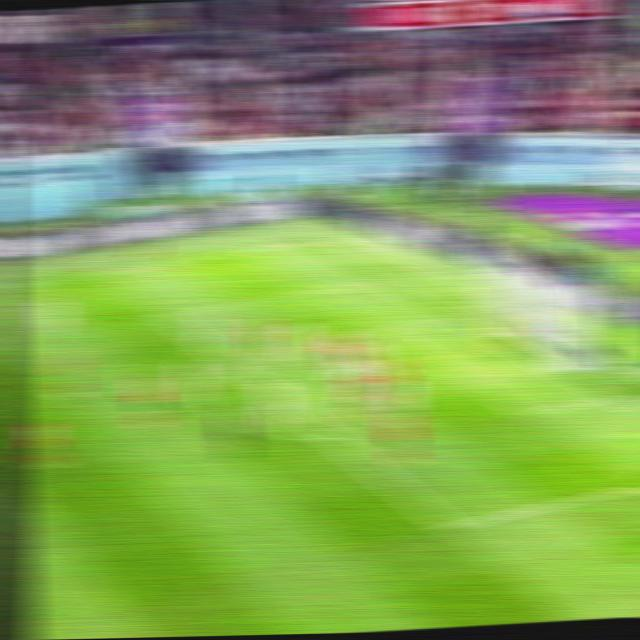bigarea_bottom_inner: (434, 511, 469, 543)
bigarea_top_inner: (154, 306, 182, 323)
bigarea_top_outter: (365, 272, 391, 285)
bottom_arc_area_intersection: (319, 428, 349, 446)
corner: (289, 239, 315, 247)
smallarea_bottom_inner: (512, 401, 545, 422)
smallarea_bottom_outter: (596, 386, 627, 403)
smallarea_top_inner: (369, 321, 397, 336)
smallarea_top_outter: (437, 308, 465, 322)
top_arc_area_intersection: (222, 356, 250, 373)
